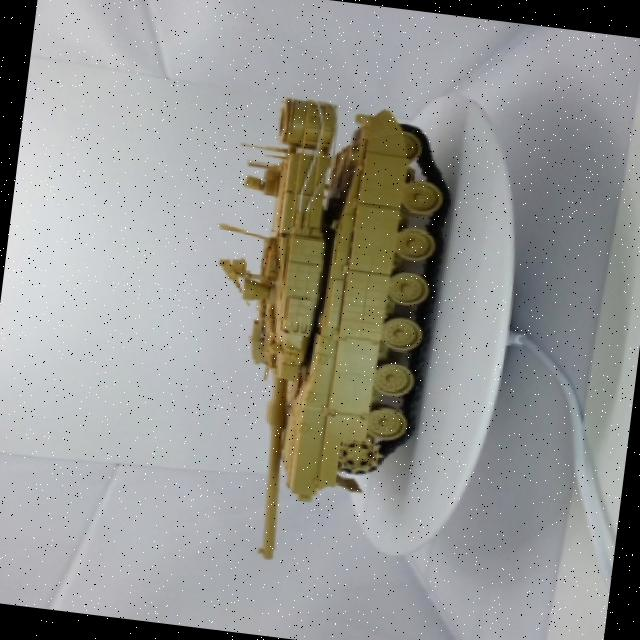korea tank: (162, 83, 479, 583)
